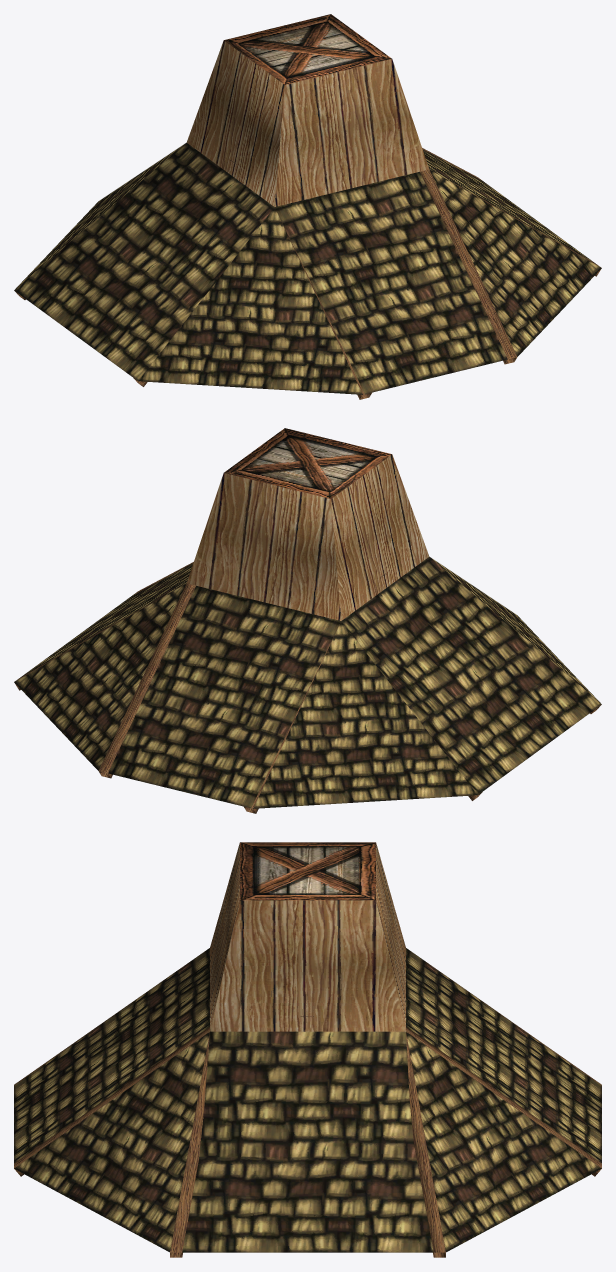
The model's file is LAKETOWN_WAREHOUSE2_PS_WH2_DOMEROOF998__GX.fbx.
The picture shows the model from 3 angles, top to bottom: view 1: azimuth 30°, elevation 25°; view 2: azimuth 150°, elevation 25°; view 3: azimuth 270°, elevation 25°; orthographic projection. The views are drawn at different scales.
Visible parts, largest first — view 1: LAKETOWN_WAREHOUSE2_PS_WH2_DOMEROOF998__GX; view 2: LAKETOWN_WAREHOUSE2_PS_WH2_DOMEROOF998__GX; view 3: LAKETOWN_WAREHOUSE2_PS_WH2_DOMEROOF998__GX.
Part boxes in pixels (x1,y1,x2,y2): LAKETOWN_WAREHOUSE2_PS_WH2_DOMEROOF998__GX: (14,14,601,399); LAKETOWN_WAREHOUSE2_PS_WH2_DOMEROOF998__GX: (14,428,601,813); LAKETOWN_WAREHOUSE2_PS_WH2_DOMEROOF998__GX: (14,842,601,1257).
Size of the model in its own units: 176352 by 86132 by 174108.
Materials: 5 (5 with a texture image).
